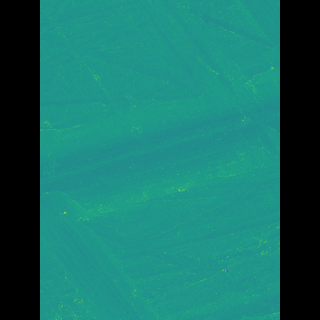Loch: (140, 0, 251, 174), (68, 195, 164, 320)
